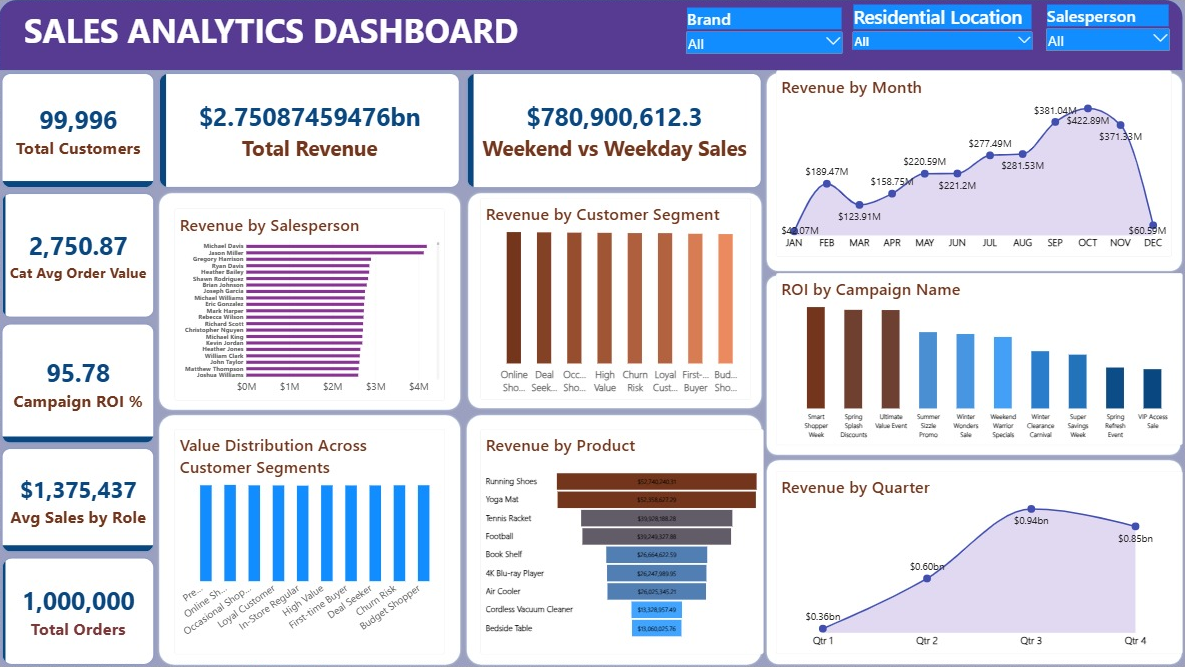

The dashboard page shown, as its layout file describes it:
{"tool":"powerbi","page":{"name":"Page 1","canvas":[3840,2160],"ordinal":0},"visuals":[{"type":"cardVisual","fields":{"Data":["Measures Table.Weekend vs Weekday Sales"]},"box":[1503.9,227.9,972.2,389.9],"z":0},{"type":"shape","box":[1509,617.8,967.2,714],"z":1000},{"type":"shape","box":[0,0,3833.3,227.9],"z":2000},{"type":"textbox","box":[0,25.3,1762.2,243.1],"z":3000},{"type":"shape","box":[511.4,617.8,992.5,719.1],"z":4000},{"type":"cardVisual","fields":{"Data":["Measures Table.Cat Avg Order Value"]},"box":[0,617.8,511.4,420.3],"z":5000},{"type":"cardVisual","fields":{"Data":["Measures Table.Avg Sales by Role"]},"box":[0,1443.2,511.4,354.5],"z":6000},{"type":"cardVisual","fields":{"Data":["Measures Table.Campaign ROI %"]},"box":[0,1038.1,511.4,405.1],"z":7000},{"type":"cardVisual","fields":{"Data":["Measures Table.Total Customers"]},"box":[0,227.9,511.4,389.9],"z":8000},{"type":"cardVisual","fields":{"Data":["Measures Table.Total Orders"]},"box":[0,1797.3,511.4,364.6],"z":9000},{"type":"cardVisual","fields":{"Data":["Measures Table.Total Revenue"]},"box":[510.1,228.3,991,388.6],"z":10000},{"type":"shape","box":[511.4,1336.8,992.5,825.4],"z":11000},{"type":"shape","box":[1503.9,1336.8,972.2,825.4],"z":12000},{"type":"shape","box":[2476.2,227.9,1362.2,658.3],"z":13000},{"type":"shape","box":[2476.2,1483.7,1362.2,678.5],"z":14000},{"type":"shape","box":[2476.2,886.2,1357.1,597.5],"z":15000},{"type":"areaChart","title":"Revenue by Month ","fields":{"Category":["dim_dates.month name"],"Y":["Measures Table.Total Revenue"]},"box":[2516.7,227.9,1281.1,602.6],"z":16000},{"type":"lineChart","title":"Revenue by Quarter","fields":{"Category":["dim_dates.full_date.Variation.Date Hierarchy.Quarter"],"Y":["Measures Table.Total Revenue"]},"box":[2516.7,1524.2,1316.6,592.5],"z":17000},{"type":"clusteredColumnChart","title":" ROI by Campaign Name","fields":{"Category":["dim_campaigns.campaign_name"],"Y":["Measures Table.Campaign ROI %"]},"box":[2516.7,886.2,1316.6,557],"z":18000},{"type":"funnel","title":"Revenue by Product","fields":{"Category":["dim_products.product_name"],"Y":["Measures Table.Total Revenue"]},"box":[1559.6,1387.5,916.5,729.2],"z":19000},{"type":"clusteredBarChart","title":"Revenue by Salesperson ","fields":{"Category":["dim_salespersons.salesperson_name"],"Y":["Measures Table.Total Revenue"]},"box":[568.3,675.2,874.4,621.8],"z":20000},{"type":"lineClusteredColumnComboChart","title":"Value Distribution Across Customer Segments","fields":{"Category":["dim_customers.customer_segment"],"Y":["Measures Table.Customer Lifetime Value"]},"box":[567.1,1387.5,876,729.2],"z":21000},{"type":"clusteredColumnChart","title":"Revenue by Customer Segment","fields":{"Category":["dim_customers.customer_segment"],"Y":["Measures Table.Sales by Segment"]},"box":[1559.6,643.1,876,653.2],"z":22000},{"type":"slicer","fields":{"Values":["dim_customers.residential_location"]},"box":[2759.8,15.2,592.5,146.8],"z":23000},{"type":"slicer","fields":{"Values":["dim_salespersons.salesperson_role"]},"box":[3387.7,15.2,410.2,202.6],"z":24000},{"type":"slicer","fields":{"Values":["dim_products.brand"]},"box":[2220,24.3,516.5,298.8],"z":25000}]}

Visuals, with their boxes in screenshot pixels (x1, y1, x2, y2), scaled from the page's 3840x2160 canvas onto the 1185x667 screenshot:
cardVisual - Measures Table.Weekend vs Weekday Sales: 464 70 764 191
shape: 466 191 764 411
shape: 0 0 1183 70
textbox: 0 8 544 83
shape: 158 191 464 413
cardVisual - Measures Table.Cat Avg Order Value: 0 191 158 321
cardVisual - Measures Table.Avg Sales by Role: 0 446 158 555
cardVisual - Measures Table.Campaign ROI %: 0 321 158 446
cardVisual - Measures Table.Total Customers: 0 70 158 191
cardVisual - Measures Table.Total Orders: 0 555 158 666
cardVisual - Measures Table.Total Revenue: 157 70 463 190
shape: 158 413 464 666
shape: 464 413 764 666
shape: 764 70 1184 274
shape: 764 458 1184 666
shape: 764 274 1183 458
"Revenue by Month " areaChart: 777 70 1172 256
"Revenue by Quarter" lineChart: 777 471 1183 654
" ROI by Campaign Name" clusteredColumnChart: 777 274 1183 446
"Revenue by Product" funnel: 481 428 764 654
"Revenue by Salesperson " clusteredBarChart: 175 208 445 401
"Value Distribution Across Customer Segments" lineClusteredColumnComboChart: 175 428 445 654
"Revenue by Customer Segment" clusteredColumnChart: 481 199 752 400
slicer - dim_customers.residential_location: 852 5 1034 50
slicer - dim_salespersons.salesperson_role: 1045 5 1172 67
slicer - dim_products.brand: 685 8 844 100
